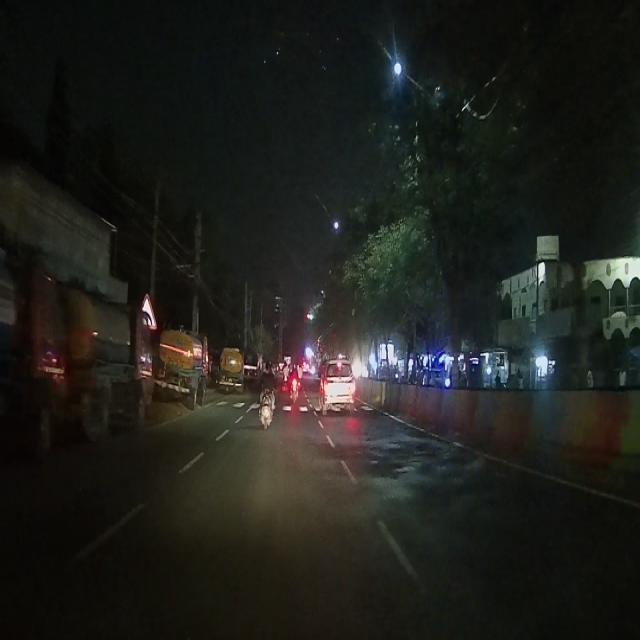left-hand-curve: (140, 291, 156, 328)
